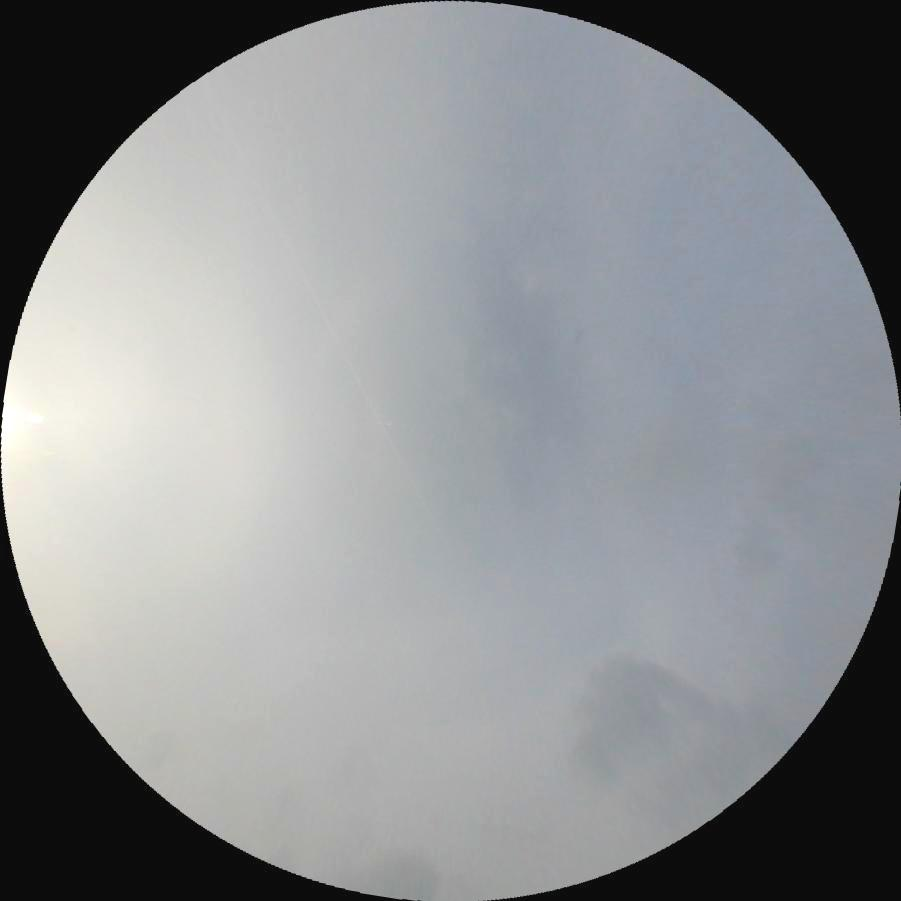contrail young: (215, 112, 456, 556)
